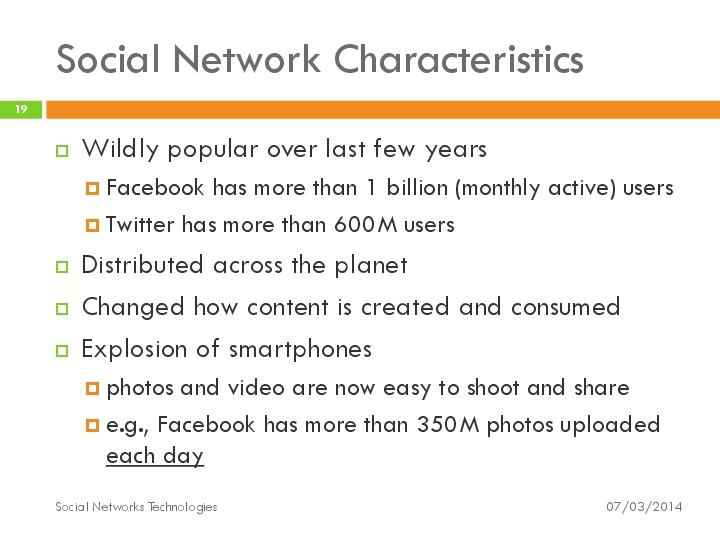paragraph: (31, 126, 696, 479)
title: (51, 35, 590, 85)
